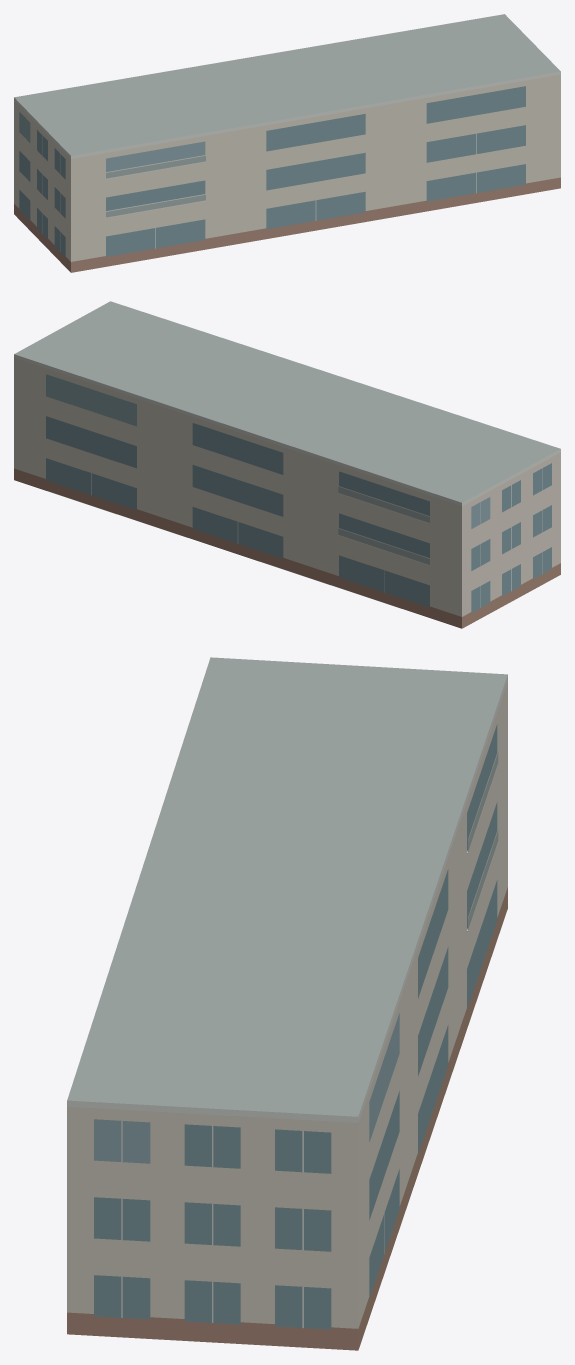
Rendered from survey-upis-32575689.glb.
The picture shows the model from 3 angles, top to bottom: view 1: azimuth 30°, elevation 25°; view 2: azimuth 150°, elevation 25°; view 3: azimuth 270°, elevation 25°; orthographic projection. The views are drawn at different scales.
Visible parts, largest first — view 1: survey-upis-32575689.tmp; view 2: survey-upis-32575689.tmp; view 3: survey-upis-32575689.tmp.
Boxes of the visible parts, box(x1,y1,x2,y2) form: survey-upis-32575689.tmp: box(14, 14, 560, 272); survey-upis-32575689.tmp: box(14, 301, 560, 628); survey-upis-32575689.tmp: box(67, 657, 507, 1350).
Size of the model in its own units: 38.58 by 9.15 by 15.65.
